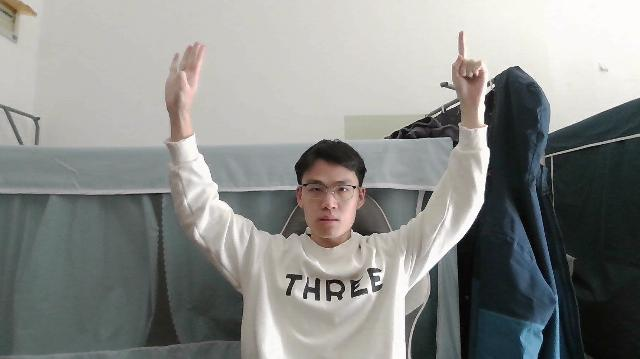one: (449, 26, 488, 103)
